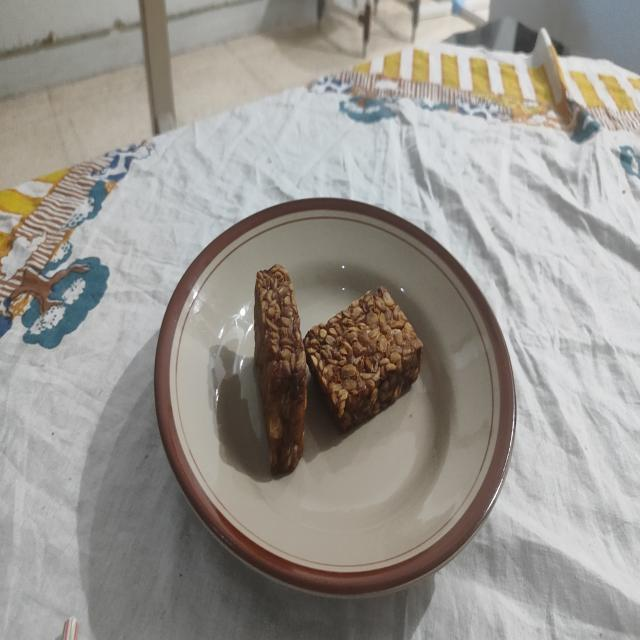tempe_goreng: (304, 288, 423, 429), (254, 265, 307, 474)
